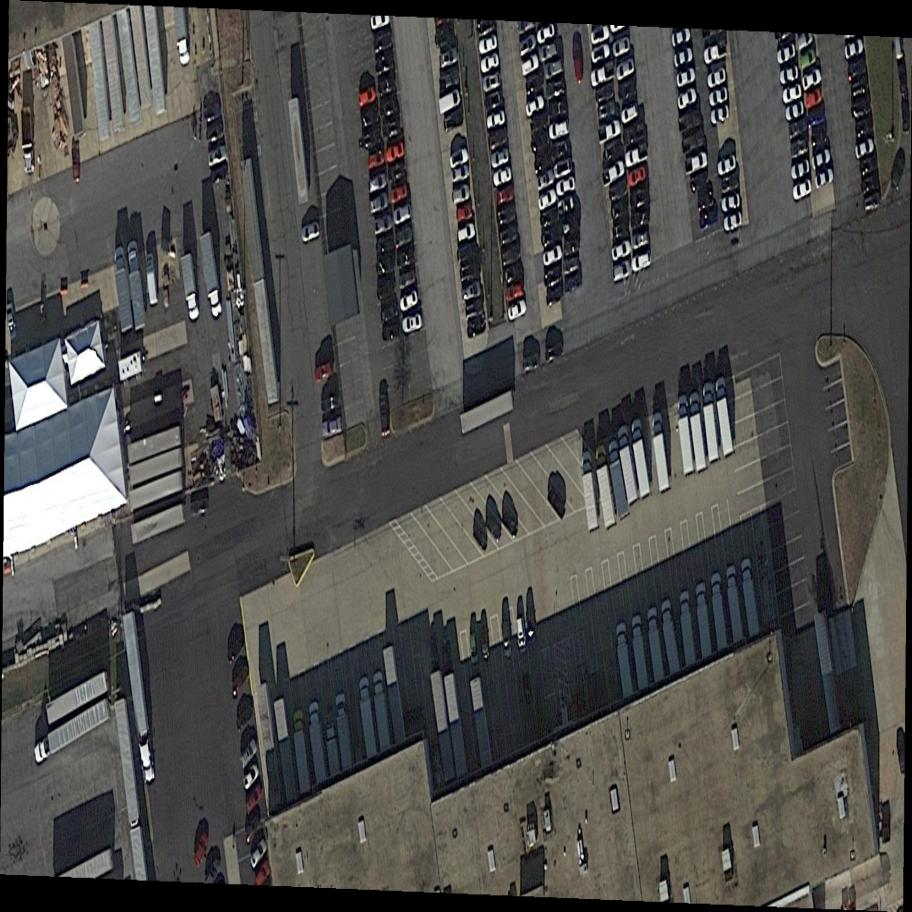large-vehicle: (27, 699, 119, 769), (121, 610, 156, 785), (198, 232, 223, 319), (593, 444, 617, 529), (126, 239, 147, 332), (616, 427, 641, 505), (113, 246, 134, 333), (629, 420, 652, 499), (358, 676, 379, 760), (579, 452, 600, 534), (292, 710, 312, 796), (650, 413, 671, 493), (307, 701, 327, 784), (615, 621, 635, 703), (741, 558, 761, 639), (608, 440, 629, 517), (715, 378, 735, 458), (334, 693, 354, 773), (660, 601, 681, 677), (372, 671, 391, 754), (725, 568, 745, 646), (709, 572, 728, 654), (631, 614, 650, 693), (689, 394, 708, 472), (694, 584, 713, 661), (702, 383, 720, 464), (646, 608, 665, 684), (678, 594, 697, 669), (180, 253, 199, 322), (677, 398, 694, 475), (20, 104, 35, 176)
small-vehicle: (540, 483, 575, 523), (476, 507, 510, 547), (494, 504, 526, 543), (224, 661, 255, 700), (591, 116, 628, 148), (847, 132, 883, 164), (594, 138, 630, 170), (674, 127, 711, 158), (671, 106, 708, 137), (432, 87, 468, 118), (233, 736, 264, 772), (886, 151, 909, 199), (436, 106, 471, 137), (464, 520, 494, 556), (619, 140, 655, 170), (596, 158, 632, 188), (240, 778, 269, 815), (222, 629, 251, 666), (239, 811, 270, 845), (230, 699, 260, 734), (679, 148, 715, 177), (807, 164, 841, 193), (245, 835, 273, 870), (237, 759, 266, 792), (698, 40, 733, 67), (393, 287, 425, 316), (494, 219, 526, 248), (519, 91, 551, 120), (605, 257, 637, 286), (490, 201, 523, 229), (363, 190, 396, 218), (843, 78, 876, 106), (796, 64, 829, 92), (585, 40, 618, 68), (586, 61, 620, 88), (527, 148, 558, 177), (489, 181, 521, 209), (849, 113, 881, 141), (794, 42, 826, 70), (803, 124, 835, 152), (805, 144, 837, 172), (610, 55, 642, 83), (605, 237, 637, 265), (537, 241, 569, 269), (786, 177, 819, 204), (513, 52, 546, 79), (453, 238, 484, 266), (461, 313, 492, 341), (842, 57, 873, 85), (191, 828, 212, 869), (251, 857, 277, 890), (353, 128, 387, 153), (145, 251, 160, 307), (496, 241, 527, 268), (352, 83, 383, 110), (625, 184, 656, 211), (847, 96, 878, 123), (201, 143, 233, 169), (855, 173, 885, 200), (524, 110, 554, 137), (519, 72, 549, 99), (540, 283, 570, 310), (538, 263, 568, 290), (454, 260, 485, 286), (368, 29, 399, 55), (770, 41, 801, 67), (712, 152, 743, 178), (475, 51, 506, 77), (481, 106, 512, 132), (535, 224, 566, 250), (589, 81, 620, 107), (434, 68, 464, 94), (499, 260, 529, 286), (500, 280, 530, 306), (694, 207, 724, 233), (513, 32, 543, 58), (502, 298, 533, 323), (317, 414, 348, 439), (672, 87, 703, 112), (670, 66, 701, 91), (780, 100, 811, 125), (434, 44, 463, 70), (622, 120, 651, 146), (533, 187, 562, 213), (614, 77, 643, 103), (604, 178, 633, 204), (296, 221, 326, 246), (715, 172, 745, 197), (691, 188, 721, 213), (684, 169, 714, 194), (626, 251, 656, 276), (839, 39, 869, 64), (803, 103, 833, 128), (776, 83, 807, 107), (445, 145, 474, 170), (370, 211, 399, 236), (517, 351, 546, 376), (668, 45, 697, 70), (784, 116, 813, 141), (855, 154, 884, 179), (526, 131, 555, 156), (585, 23, 614, 48), (540, 341, 570, 365), (381, 140, 411, 164), (800, 85, 828, 110), (532, 168, 560, 193), (606, 198, 634, 223), (431, 26, 460, 50), (460, 298, 489, 322), (310, 359, 339, 383), (775, 64, 804, 88), (484, 128, 513, 152), (786, 158, 815, 182), (623, 164, 652, 188), (475, 32, 504, 56), (616, 102, 645, 126), (608, 34, 635, 59), (364, 172, 392, 196), (372, 278, 400, 302), (489, 164, 517, 188), (706, 104, 734, 128), (533, 23, 561, 47), (378, 391, 392, 438), (393, 248, 420, 272), (453, 221, 480, 245), (460, 278, 484, 305), (398, 311, 426, 334), (372, 255, 400, 278), (499, 613, 513, 659), (376, 97, 404, 120), (371, 55, 399, 78), (201, 121, 229, 144), (487, 146, 515, 169), (705, 85, 733, 108), (667, 27, 695, 50), (552, 175, 580, 198), (549, 157, 577, 180), (540, 57, 568, 80), (452, 201, 478, 225), (377, 300, 403, 324), (448, 184, 475, 207), (373, 77, 400, 100), (199, 101, 226, 124), (536, 207, 563, 230), (543, 78, 570, 101), (387, 160, 409, 188), (719, 211, 747, 233), (514, 613, 529, 653), (448, 164, 474, 187), (391, 226, 417, 249), (394, 268, 420, 291), (379, 115, 405, 138), (481, 70, 504, 96), (594, 99, 620, 122), (357, 107, 384, 129), (704, 67, 731, 89), (535, 42, 562, 64), (481, 90, 508, 112), (899, 86, 911, 134), (387, 183, 413, 205), (390, 203, 416, 225), (718, 191, 744, 213), (572, 41, 585, 84), (379, 322, 403, 345), (787, 136, 812, 158), (859, 194, 884, 216), (549, 139, 574, 161), (525, 602, 538, 644), (187, 497, 212, 518), (478, 624, 491, 663), (630, 208, 651, 232), (556, 214, 580, 235), (318, 394, 343, 414), (553, 195, 578, 215), (612, 217, 632, 242), (373, 235, 397, 255), (71, 142, 82, 184), (562, 274, 585, 294), (367, 149, 386, 173), (5, 302, 17, 339), (548, 99, 570, 119), (632, 231, 651, 254), (547, 120, 570, 139), (468, 631, 480, 667), (561, 257, 583, 274), (897, 54, 908, 85), (564, 237, 581, 256)
